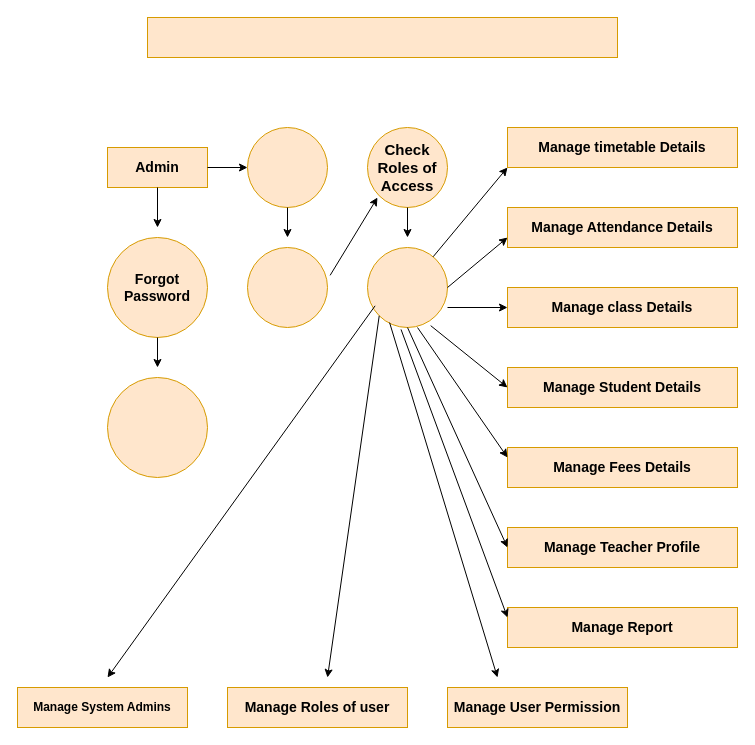
Image size: 755x745. Some labels were removed from this diagram. Each missing label, with the centre of its shape:
Check Credentials: (x=287, y=287)
Login to System: (x=287, y=167)
Manage Modules: (x=407, y=287)
Send Mail to User: (x=157, y=427)
Student Information System: (x=382, y=37)
